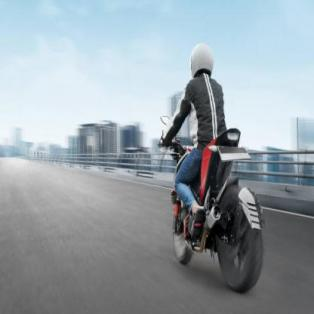Motocicleta: (157, 112, 269, 291)
